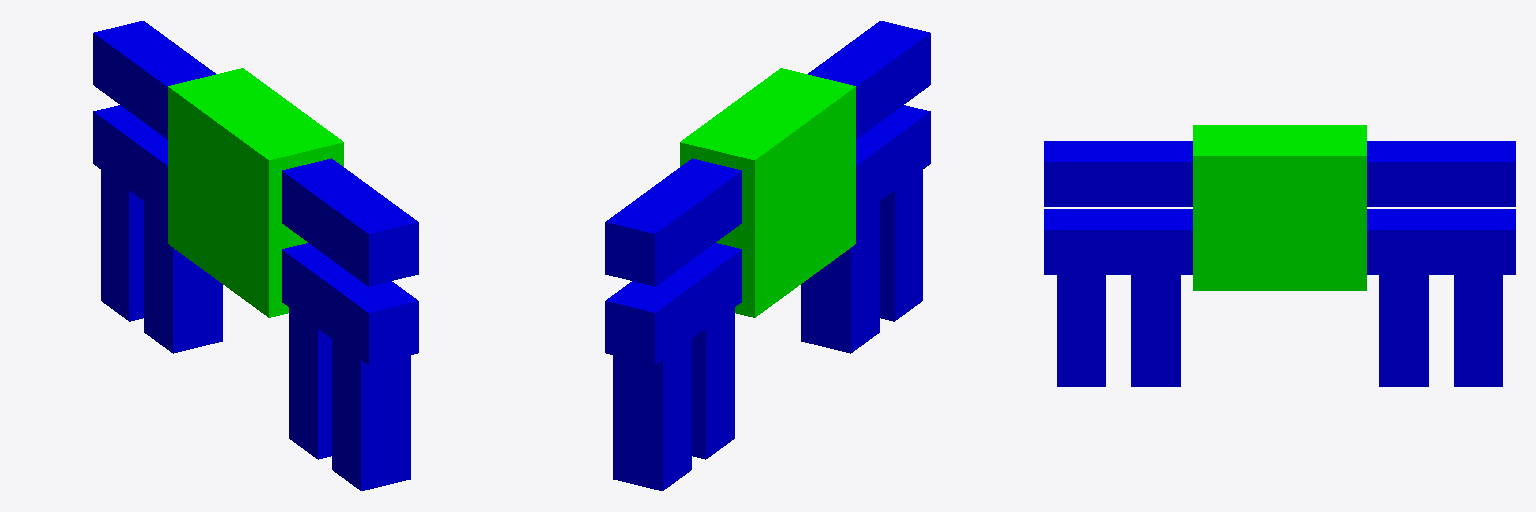
robot.urdf — robot:
<robot name = "robot">
    <link name="root">
        <inertial>
            <origin xyz="0.0 0.0 1.5" rpy="0 0 0"/>
            <mass value="1" />
            <inertia ixx="100" ixy="0" ixz="0" iyy="100" iyz="0" izz="100" />
        </inertial>
        <visual>
            <origin xyz="0.0 0.0 1.5" rpy="0 0 0"/>
            <geometry>
                <box size="0 0 0.0001" />
            </geometry>
            <material name="Green">
                <color rgba="0 1.0 0.0 1.0"/>
            </material>
        </visual>
        <collision>
            <origin xyz="0.0 0.0 1.5" rpy="0 0 0"/>
            <geometry>
                <box size="0 0 0.0001" />
            </geometry>
        </collision>
    </link>
    <joint name="root_000" type="revolute">
       <parent link="root"/>
       <child  link="000"/>
       <origin rpy="0 0 0" xyz="0.0 0.0 1.5" />
     <axis xyz="1 0 0"/>
       <limit effort="0.0" lower="-3.14159" upper="3.14159" velocity="0.0"/>
    </joint>
    <link name="000">
        <inertial>
            <origin xyz="0.0 0.0 -0.15" rpy="0 0 0"/>
            <mass value="1" />
            <inertia ixx="100" ixy="0" ixz="0" iyy="100" iyz="0" izz="100" />
        </inertial>
        <visual>
            <origin xyz="0.0 0.0 -0.15" rpy="0 0 0"/>
            <geometry>
                <box size="0.3 0.7 0.3" />
            </geometry>
            <material name="Green">
                <color rgba="0 1.0 0.0 1.0"/>
            </material>
        </visual>
        <collision>
            <origin xyz="0.0 0.0 -0.15" rpy="0 0 0"/>
            <geometry>
                <box size="0.3 0.7 0.3" />
            </geometry>
        </collision>
    </link>
    <joint name="000_010" type="revolute">
       <parent link="000"/>
       <child  link="010"/>
       <origin rpy="0 0 0" xyz="0.0 0.0 -0.3" />
     <axis xyz="0 0 1"/>
       <limit effort="0.0" lower="-3.14159" upper="3.14159" velocity="0.0"/>
    </joint>
    <link name="010">
        <inertial>
            <origin xyz="0.0 0.0 -0.15" rpy="0 0 0"/>
            <mass value="1" />
            <inertia ixx="100" ixy="0" ixz="0" iyy="100" iyz="0" izz="100" />
        </inertial>
        <visual>
            <origin xyz="0.0 0.0 -0.15" rpy="0 0 0"/>
            <geometry>
                <box size="0.3 0.7 0.3" />
            </geometry>
            <material name="Green">
                <color rgba="0 1.0 0.0 1.0"/>
            </material>
        </visual>
        <collision>
            <origin xyz="0.0 0.0 -0.15" rpy="0 0 0"/>
            <geometry>
                <box size="0.3 0.7 0.3" />
            </geometry>
        </collision>
    </link>
    <joint name="010_010-100" type="revolute">
       <parent link="010"/>
       <child  link="010-100"/>
       <origin rpy="0 0 0" xyz="0.0 0.35 -0.15" />
     <axis xyz="0 1 0"/>
       <limit effort="0.0" lower="-3.14159" upper="3.14159" velocity="0.0"/>
    </joint>
    <link name="010-100">
        <inertial>
            <origin xyz="0.0 0.15 -0.0" rpy="0 0 0"/>
            <mass value="1" />
            <inertia ixx="100" ixy="0" ixz="0" iyy="100" iyz="0" izz="100" />
        </inertial>
        <visual>
            <origin xyz="0.0 0.15 -0.0" rpy="0 0 0"/>
            <geometry>
                <box size="0.2 0.3 0.2" />
            </geometry>
            <material name="Blue">
                <color rgba="0 0.0 1.0 1.0"/>
            </material>
        </visual>
        <collision>
            <origin xyz="0.0 0.15 -0.0" rpy="0 0 0"/>
            <geometry>
                <box size="0.2 0.3 0.2" />
            </geometry>
        </collision>
    </link>
    <joint name="010-100_010-110" type="revolute">
       <parent link="010-100"/>
       <child  link="010-110"/>
       <origin rpy="0 0 0" xyz="0.0 0.3 -0.0" />
     <axis xyz="0 1 0"/>
       <limit effort="0.0" lower="-3.14159" upper="3.14159" velocity="0.0"/>
    </joint>
    <link name="010-110">
        <inertial>
            <origin xyz="0.0 0.15 -0.0" rpy="0 0 0"/>
            <mass value="1" />
            <inertia ixx="100" ixy="0" ixz="0" iyy="100" iyz="0" izz="100" />
        </inertial>
        <visual>
            <origin xyz="0.0 0.15 -0.0" rpy="0 0 0"/>
            <geometry>
                <box size="0.2 0.3 0.2" />
            </geometry>
            <material name="Blue">
                <color rgba="0 0.0 1.0 1.0"/>
            </material>
        </visual>
        <collision>
            <origin xyz="0.0 0.15 -0.0" rpy="0 0 0"/>
            <geometry>
                <box size="0.2 0.3 0.2" />
            </geometry>
        </collision>
    </link>
    <joint name="010-110_010-110-200" type="revolute">
       <parent link="010-110"/>
       <child  link="010-110-200"/>
       <origin rpy="0 0 0" xyz="0.0 0.15 -0.1" />
     <axis xyz="0 0 1"/>
       <limit effort="0.0" lower="-3.14159" upper="3.14159" velocity="0.0"/>
    </joint>
    <link name="010-110-200">
        <inertial>
            <origin xyz="0.0 0.0 -0.25" rpy="0 0 0"/>
            <mass value="1" />
            <inertia ixx="100" ixy="0" ixz="0" iyy="100" iyz="0" izz="100" />
        </inertial>
        <visual>
            <origin xyz="0.0 0.0 -0.25" rpy="0 0 0"/>
            <geometry>
                <box size="0.2 0.2 0.5" />
            </geometry>
            <material name="Blue">
                <color rgba="0 0.0 1.0 1.0"/>
            </material>
        </visual>
        <collision>
            <origin xyz="0.0 0.0 -0.25" rpy="0 0 0"/>
            <geometry>
                <box size="0.2 0.2 0.5" />
            </geometry>
        </collision>
    </link>
    <joint name="010-100_010-100-200" type="revolute">
       <parent link="010-100"/>
       <child  link="010-100-200"/>
       <origin rpy="0 0 0" xyz="0.0 0.15 -0.1" />
     <axis xyz="0 0 1"/>
       <limit effort="0.0" lower="-3.14159" upper="3.14159" velocity="0.0"/>
    </joint>
    <link name="010-100-200">
        <inertial>
            <origin xyz="0.0 0.0 -0.25" rpy="0 0 0"/>
            <mass value="1" />
            <inertia ixx="100" ixy="0" ixz="0" iyy="100" iyz="0" izz="100" />
        </inertial>
        <visual>
            <origin xyz="0.0 0.0 -0.25" rpy="0 0 0"/>
            <geometry>
                <box size="0.2 0.2 0.5" />
            </geometry>
            <material name="Blue">
                <color rgba="0 0.0 1.0 1.0"/>
            </material>
        </visual>
        <collision>
            <origin xyz="0.0 0.0 -0.25" rpy="0 0 0"/>
            <geometry>
                <box size="0.2 0.2 0.5" />
            </geometry>
        </collision>
    </link>
    <joint name="010_010-101" type="revolute">
       <parent link="010"/>
       <child  link="010-101"/>
       <origin rpy="0 0 0" xyz="0.0 -0.35 -0.15" />
     <axis xyz="0 1 0"/>
       <limit effort="0.0" lower="-3.14159" upper="3.14159" velocity="0.0"/>
    </joint>
    <link name="010-101">
        <inertial>
            <origin xyz="0.0 -0.15 -0.0" rpy="0 0 0"/>
            <mass value="1" />
            <inertia ixx="100" ixy="0" ixz="0" iyy="100" iyz="0" izz="100" />
        </inertial>
        <visual>
            <origin xyz="0.0 -0.15 -0.0" rpy="0 0 0"/>
            <geometry>
                <box size="0.2 0.3 0.2" />
            </geometry>
            <material name="Blue">
                <color rgba="0 0.0 1.0 1.0"/>
            </material>
        </visual>
        <collision>
            <origin xyz="0.0 -0.15 -0.0" rpy="0 0 0"/>
            <geometry>
                <box size="0.2 0.3 0.2" />
            </geometry>
        </collision>
    </link>
    <joint name="010-101_010-111" type="revolute">
       <parent link="010-101"/>
       <child  link="010-111"/>
       <origin rpy="0 0 0" xyz="0.0 -0.3 -0.0" />
     <axis xyz="0 1 0"/>
       <limit effort="0.0" lower="-3.14159" upper="3.14159" velocity="0.0"/>
    </joint>
    <link name="010-111">
        <inertial>
            <origin xyz="0.0 -0.15 -0.0" rpy="0 0 0"/>
            <mass value="1" />
            <inertia ixx="100" ixy="0" ixz="0" iyy="100" iyz="0" izz="100" />
        </inertial>
        <visual>
            <origin xyz="0.0 -0.15 -0.0" rpy="0 0 0"/>
            <geometry>
                <box size="0.2 0.3 0.2" />
            </geometry>
            <material name="Blue">
                <color rgba="0 0.0 1.0 1.0"/>
            </material>
        </visual>
        <collision>
            <origin xyz="0.0 -0.15 -0.0" rpy="0 0 0"/>
            <geometry>
                <box size="0.2 0.3 0.2" />
            </geometry>
        </collision>
    </link>
    <joint name="010-111_010-111-200" type="revolute">
       <parent link="010-111"/>
       <child  link="010-111-200"/>
       <origin rpy="0 0 0" xyz="0.0 -0.15 -0.1" />
     <axis xyz="0 0 1"/>
       <limit effort="0.0" lower="-3.14159" upper="3.14159" velocity="0.0"/>
    </joint>
    <link name="010-111-200">
        <inertial>
            <origin xyz="0.0 -0.0 -0.25" rpy="0 0 0"/>
            <mass value="1" />
            <inertia ixx="100" ixy="0" ixz="0" iyy="100" iyz="0" izz="100" />
        </inertial>
        <visual>
            <origin xyz="0.0 -0.0 -0.25" rpy="0 0 0"/>
            <geometry>
                <box size="0.2 0.2 0.5" />
            </geometry>
            <material name="Blue">
                <color rgba="0 0.0 1.0 1.0"/>
            </material>
        </visual>
        <collision>
            <origin xyz="0.0 -0.0 -0.25" rpy="0 0 0"/>
            <geometry>
                <box size="0.2 0.2 0.5" />
            </geometry>
        </collision>
    </link>
    <joint name="010-101_010-101-200" type="revolute">
       <parent link="010-101"/>
       <child  link="010-101-200"/>
       <origin rpy="0 0 0" xyz="0.0 -0.15 -0.1" />
     <axis xyz="0 0 1"/>
       <limit effort="0.0" lower="-3.14159" upper="3.14159" velocity="0.0"/>
    </joint>
    <link name="010-101-200">
        <inertial>
            <origin xyz="0.0 -0.0 -0.25" rpy="0 0 0"/>
            <mass value="1" />
            <inertia ixx="100" ixy="0" ixz="0" iyy="100" iyz="0" izz="100" />
        </inertial>
        <visual>
            <origin xyz="0.0 -0.0 -0.25" rpy="0 0 0"/>
            <geometry>
                <box size="0.2 0.2 0.5" />
            </geometry>
            <material name="Blue">
                <color rgba="0 0.0 1.0 1.0"/>
            </material>
        </visual>
        <collision>
            <origin xyz="0.0 -0.0 -0.25" rpy="0 0 0"/>
            <geometry>
                <box size="0.2 0.2 0.5" />
            </geometry>
        </collision>
    </link>
    <joint name="000_000-100" type="revolute">
       <parent link="000"/>
       <child  link="000-100"/>
       <origin rpy="0 0 0" xyz="0.0 0.35 -0.15" />
     <axis xyz="0 1 0"/>
       <limit effort="0.0" lower="-3.14159" upper="3.14159" velocity="0.0"/>
    </joint>
    <link name="000-100">
        <inertial>
            <origin xyz="0.0 0.15 -0.0" rpy="0 0 0"/>
            <mass value="1" />
            <inertia ixx="100" ixy="0" ixz="0" iyy="100" iyz="0" izz="100" />
        </inertial>
        <visual>
            <origin xyz="0.0 0.15 -0.0" rpy="0 0 0"/>
            <geometry>
                <box size="0.2 0.3 0.2" />
            </geometry>
            <material name="Blue">
                <color rgba="0 0.0 1.0 1.0"/>
            </material>
        </visual>
        <collision>
            <origin xyz="0.0 0.15 -0.0" rpy="0 0 0"/>
            <geometry>
                <box size="0.2 0.3 0.2" />
            </geometry>
        </collision>
    </link>
    <joint name="000-100_000-110" type="revolute">
       <parent link="000-100"/>
       <child  link="000-110"/>
       <origin rpy="0 0 0" xyz="0.0 0.3 -0.0" />
     <axis xyz="0 1 0"/>
       <limit effort="0.0" lower="-3.14159" upper="3.14159" velocity="0.0"/>
    </joint>
    <link name="000-110">
        <inertial>
            <origin xyz="0.0 0.15 -0.0" rpy="0 0 0"/>
            <mass value="1" />
            <inertia ixx="100" ixy="0" ixz="0" iyy="100" iyz="0" izz="100" />
        </inertial>
        <visual>
            <origin xyz="0.0 0.15 -0.0" rpy="0 0 0"/>
            <geometry>
                <box size="0.2 0.3 0.2" />
            </geometry>
            <material name="Blue">
                <color rgba="0 0.0 1.0 1.0"/>
            </material>
        </visual>
        <collision>
            <origin xyz="0.0 0.15 -0.0" rpy="0 0 0"/>
            <geometry>
                <box size="0.2 0.3 0.2" />
            </geometry>
        </collision>
    </link>
    <joint name="000_000-101" type="revolute">
       <parent link="000"/>
       <child  link="000-101"/>
       <origin rpy="0 0 0" xyz="0.0 -0.35 -0.15" />
     <axis xyz="0 1 0"/>
       <limit effort="0.0" lower="-3.14159" upper="3.14159" velocity="0.0"/>
    </joint>
    <link name="000-101">
        <inertial>
            <origin xyz="0.0 -0.15 -0.0" rpy="0 0 0"/>
            <mass value="1" />
            <inertia ixx="100" ixy="0" ixz="0" iyy="100" iyz="0" izz="100" />
        </inertial>
        <visual>
            <origin xyz="0.0 -0.15 -0.0" rpy="0 0 0"/>
            <geometry>
                <box size="0.2 0.3 0.2" />
            </geometry>
            <material name="Blue">
                <color rgba="0 0.0 1.0 1.0"/>
            </material>
        </visual>
        <collision>
            <origin xyz="0.0 -0.15 -0.0" rpy="0 0 0"/>
            <geometry>
                <box size="0.2 0.3 0.2" />
            </geometry>
        </collision>
    </link>
    <joint name="000-101_000-111" type="revolute">
       <parent link="000-101"/>
       <child  link="000-111"/>
       <origin rpy="0 0 0" xyz="0.0 -0.3 -0.0" />
     <axis xyz="0 1 0"/>
       <limit effort="0.0" lower="-3.14159" upper="3.14159" velocity="0.0"/>
    </joint>
    <link name="000-111">
        <inertial>
            <origin xyz="0.0 -0.15 -0.0" rpy="0 0 0"/>
            <mass value="1" />
            <inertia ixx="100" ixy="0" ixz="0" iyy="100" iyz="0" izz="100" />
        </inertial>
        <visual>
            <origin xyz="0.0 -0.15 -0.0" rpy="0 0 0"/>
            <geometry>
                <box size="0.2 0.3 0.2" />
            </geometry>
            <material name="Blue">
                <color rgba="0 0.0 1.0 1.0"/>
            </material>
        </visual>
        <collision>
            <origin xyz="0.0 -0.15 -0.0" rpy="0 0 0"/>
            <geometry>
                <box size="0.2 0.3 0.2" />
            </geometry>
        </collision>
    </link>
</robot>

--- What the picture shows (computed from the rendered views, not written in the file) ---
3 views of the same robot in one strip: view 1: azimuth 30°, elevation 25°; view 2: azimuth 150°, elevation 25°; view 3: azimuth 270°, elevation 25° (orthographic).
Model robot with 15 links and 14 joints (14 revolute), rooted at root, posed every joint at zero.
Visible links, largest first — view 1: [phone redacted] (×4), 000, 010, 000-111, 010-111, 000-110, 000-101, 010-110, 010-101, 000-100, 010-100; view 2: [phone redacted] (×4), 000, 010, 000-110, 010-110, 000-111, 000-100, 010-111, 010-100, 000-101, 010-101; view 3: [phone redacted] (×4), 000, 010, 010-110, 010-111, 000-110, 000-111, 010-100, 010-101, 000-100, 000-101.
Boxes of the visible links, x1,y1,x2,y2 form: [phone redacted] (×4): [101, 170, 410, 490]; 000: [168, 68, 343, 238]; 010: [168, 166, 307, 317]; 000-111: [325, 190, 418, 286]; 010-111: [325, 275, 418, 364]; 000-110: [93, 21, 185, 116]; 000-101: [282, 158, 373, 254]; 010-110: [93, 105, 162, 195]; 010-101: [282, 243, 351, 332]; 000-100: [137, 52, 215, 139]; 010-100: [137, 137, 167, 217]; [phone redacted] (×4): [613, 170, 922, 490]; 000: [680, 68, 855, 238]; 010: [716, 166, 855, 317]; 000-110: [605, 190, 698, 286]; 010-110: [605, 275, 698, 364]; 000-111: [838, 21, 930, 116]; 000-100: [650, 158, 741, 254]; 010-111: [861, 105, 930, 195]; 010-100: [672, 243, 741, 332]; 000-101: [808, 52, 886, 139]; 010-101: [856, 137, 886, 217]; [phone redacted] (×4): [1057, 275, 1502, 386]; 000: [1193, 125, 1366, 223]; 010: [1193, 224, 1366, 290]; 010-110: [1441, 209, 1515, 274]; 010-111: [1044, 209, 1118, 274]; 000-110: [1441, 141, 1515, 206]; 000-111: [1044, 141, 1118, 206]; 010-100: [1367, 209, 1440, 274]; 010-101: [1119, 209, 1192, 274]; 000-100: [1367, 141, 1440, 206]; 000-101: [1119, 141, 1192, 206].
Bounding box of the posed robot: 0.3 × 1.9 × 1.05 m (x, y, z).
Geometry: primitives only (box / cylinder / sphere), no mesh files.
